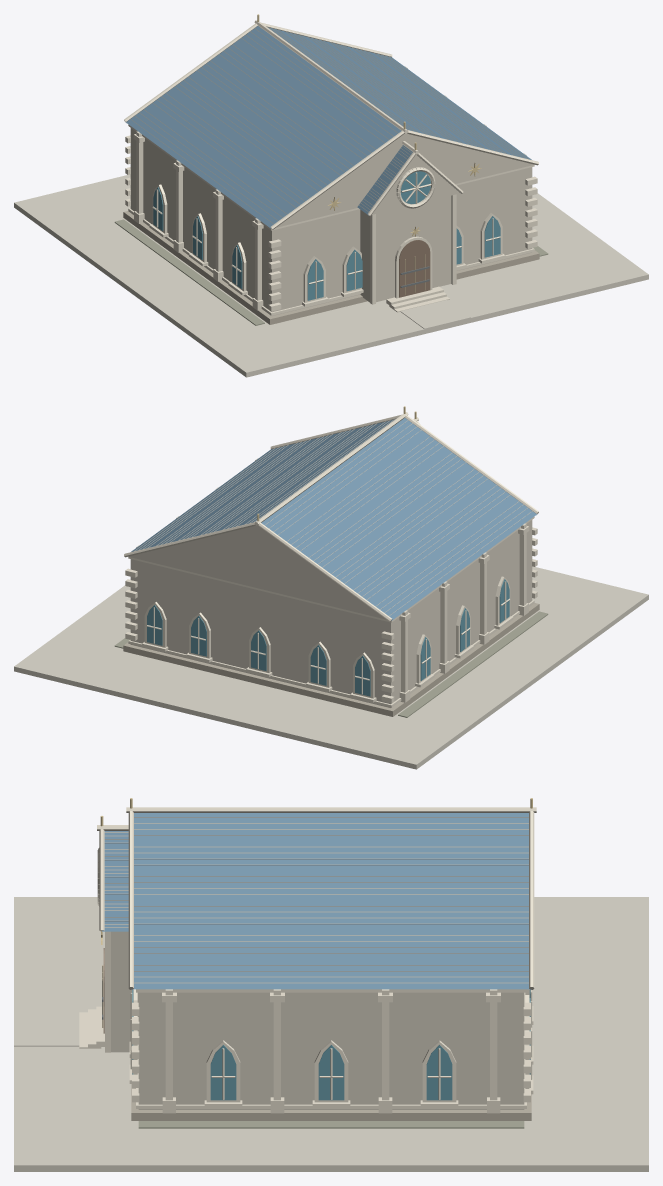
The model's file is ArcaneAcademy_Lv1.fbx.
3 views of the same model, one above another, from view 1: azimuth 30°, elevation 25°; view 2: azimuth 150°, elevation 25°; view 3: azimuth 270°, elevation 25° (orthographic). The views are drawn at different scales.
Parts seen in each view (by area): view 1: Roof surfaces.015, Fixed 26m plot.015, Main school walls.015, Roof courses.010, Gable infill.010, Projecting entrance bay.015, Gable verge.010, School foundation.015, Window glass.015, Decor side pilasters.015, Window frame.015, Grass edging.015 (+10 smaller); view 2: Roof surfaces.015, Fixed 26m plot.015, Main school walls.015, Gable infill.010, Roof courses.010, School foundation.015, Window glass.015, Window frame.015, Gable verge.010, Decor side pilasters.015, Stone stringcourse.015, Grass edging.015 (+4 smaller); view 3: Fixed 26m plot.015, Roof surfaces.015, Main school walls.015, Roof courses.010, School foundation.015, Window glass.015, Decor side pilasters.015, Grass edging.015, Stone stringcourse.015, Gable verge.010, Roof ridge.010, Projecting entrance bay.015 (+10 smaller).
Boxes of the visible parts, <box> form: Roof surfaces.015: <box>125,26,531,228</box>; Fixed 26m plot.015: <box>14,174,648,377</box>; Main school walls.015: <box>130,128,532,315</box>; Roof courses.010: <box>130,27,528,223</box>; Gable infill.010: <box>276,133,533,227</box>; Projecting entrance bay.015: <box>360,195,451,302</box>; Gable verge.010: <box>124,22,538,229</box>; School foundation.015: <box>123,211,539,324</box>; Window glass.015: <box>153,187,500,300</box>; Decor side pilasters.015: <box>136,66,526,300</box>; Window frame.015: <box>152,184,502,302</box>; Grass edging.015: <box>114,219,548,325</box>; Roof surfaces.015: <box>131,418,537,620</box>; Fixed 26m plot.015: <box>14,566,648,769</box>; Main school walls.015: <box>130,520,532,707</box>; Gable infill.010: <box>129,525,386,619</box>; Roof courses.010: <box>134,419,532,615</box>; School foundation.015: <box>123,603,539,716</box>; Window glass.015: <box>147,579,509,696</box>; Window frame.015: <box>144,576,510,698</box>; Gable verge.010: <box>124,414,538,621</box>; Decor side pilasters.015: <box>136,458,526,692</box>; Stone stringcourse.015: <box>128,516,534,707</box>; Grass edging.015: <box>114,611,548,717</box>; Fixed 26m plot.015: <box>14,897,648,1171</box>; Roof surfaces.015: <box>102,813,531,989</box>; Main school walls.015: <box>138,992,524,1109</box>; Roof courses.010: <box>104,817,528,983</box>; School foundation.015: <box>131,989,531,1120</box>; Window glass.015: <box>132,989,530,1100</box>; Decor side pilasters.015: <box>165,989,497,1100</box>; Grass edging.015: <box>138,1121,524,1128</box>; Stone stringcourse.015: <box>136,989,526,1108</box>; Gable verge.010: <box>99,811,534,989</box>; Roof ridge.010: <box>97,807,536,830</box>; Projecting entrance bay.015: <box>111,931,138,1052</box>.
Bounding box in the file's own units: 26 × 10.8 × 26.
